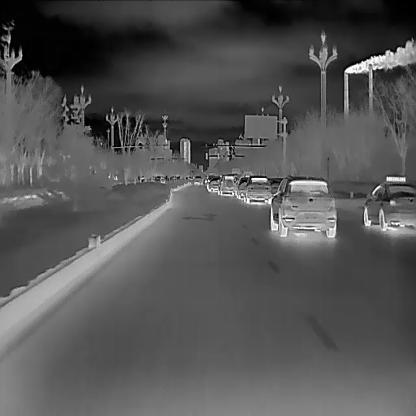car: (269, 174, 337, 238), (364, 173, 416, 230), (242, 173, 272, 203), (217, 172, 239, 195), (233, 176, 251, 199), (206, 173, 222, 192), (193, 173, 202, 185)
